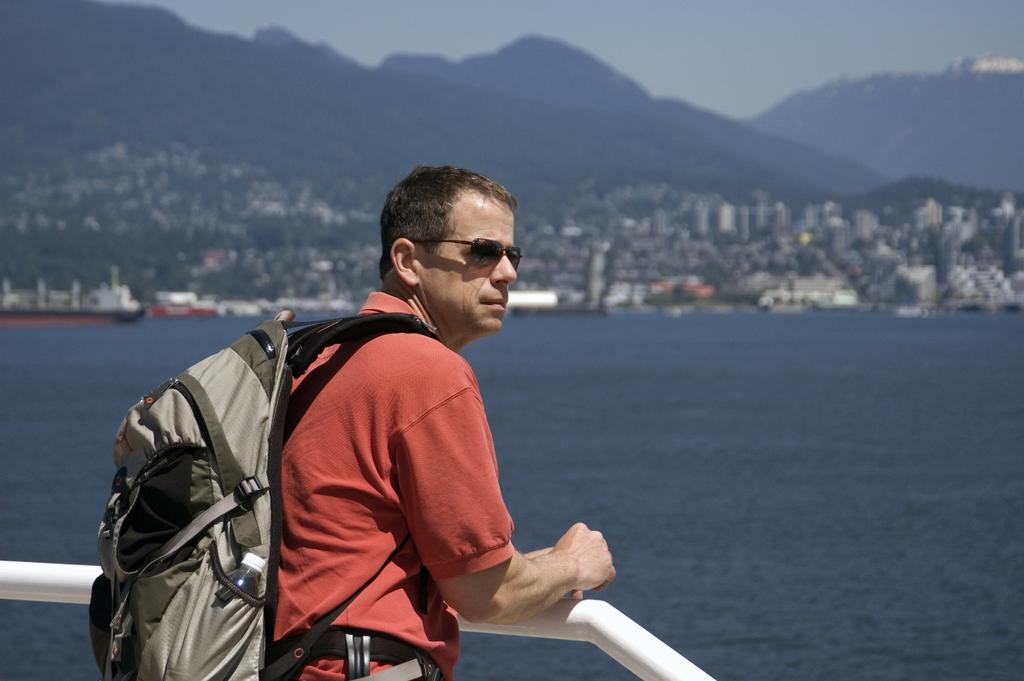Luggage-and-bags: (120, 308, 443, 665)
